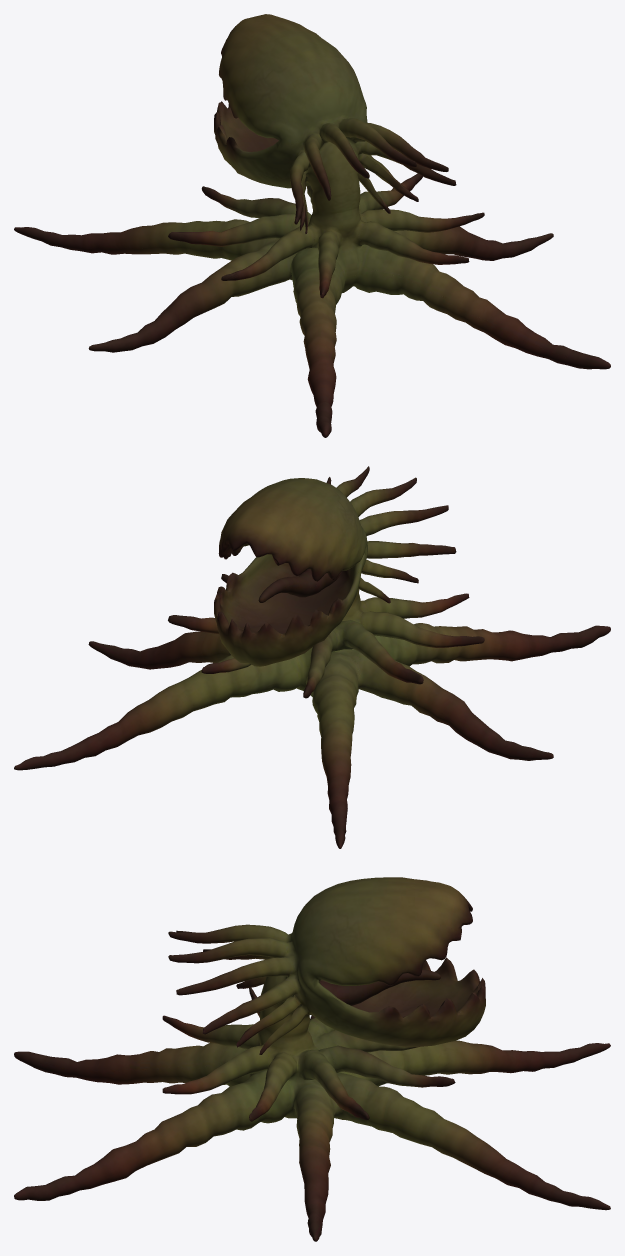
Rendered from plantMonster.obj.
3 views of the same model, one above another, from view 1: azimuth 30°, elevation 25°; view 2: azimuth 150°, elevation 25°; view 3: azimuth 270°, elevation 25° (orthographic). The views are drawn at different scales.
Visible parts, largest first — view 1: plant_monster_Mesh.001; view 2: plant_monster_Mesh.001; view 3: plant_monster_Mesh.001.
Part boxes in pixels (x1,y1,x2,y2): plant_monster_Mesh.001: (14,14,610,437); plant_monster_Mesh.001: (14,466,610,848); plant_monster_Mesh.001: (14,877,610,1241).
Bounding box in the file's own units: 2.87 × 1.46 × 3.12.
